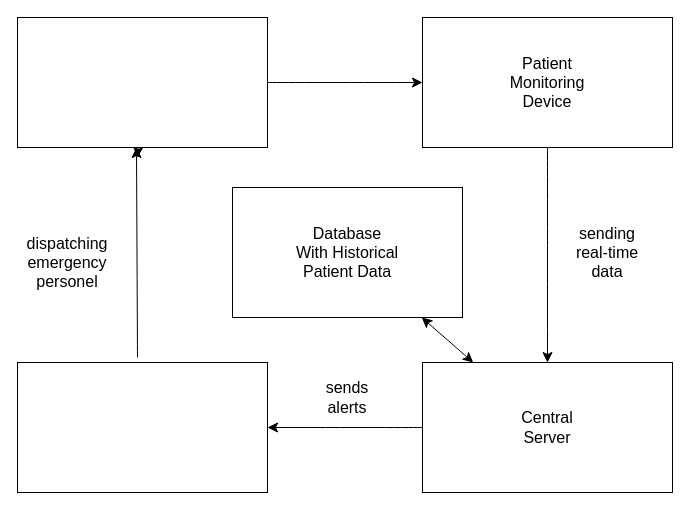
This 690x510 diagram has some shape labels left out. The shapes that lost their labels are listed below. From the top down, each one's centre as x and y in pixels, then its label:
[142,82]: Patient
[142,427]: Operator Interface
